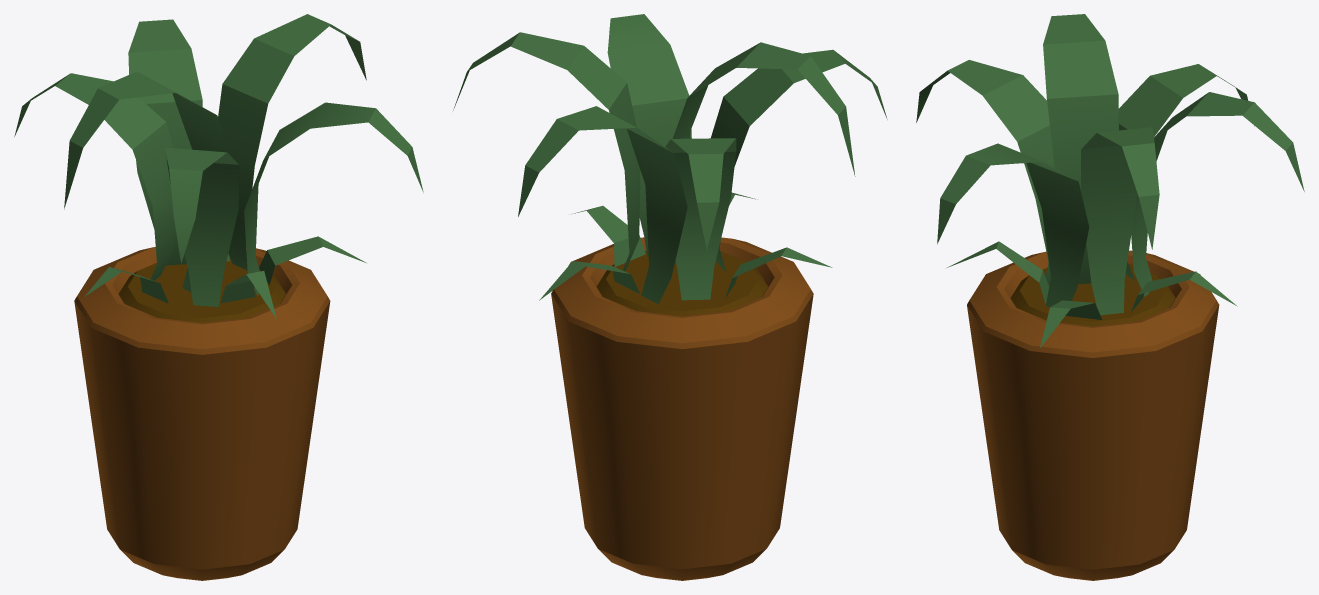
Rendered from Tanaman.fbx.
3 renders of one model, left to right at view 1: azimuth 30°, elevation 25°; view 2: azimuth 150°, elevation 25°; view 3: azimuth 270°, elevation 25°, orthographic. The views are drawn at different scales.
Parts seen in each view (by area): view 1: Tumbuhan; view 2: Tumbuhan; view 3: Tumbuhan.
Part boxes in pixels (left/top/right/bottom): Tumbuhan: left=14, top=14, right=423, bottom=580; Tumbuhan: left=453, top=14, right=887, bottom=580; Tumbuhan: left=916, top=14, right=1304, bottom=580.
Bounding box in the file's own units: 53.96 × 74.22 × 52.92.
